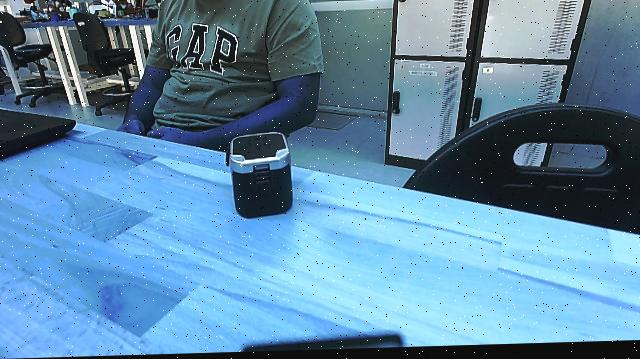adapter: (222, 130, 300, 220)
